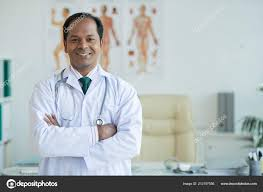Indian_Male: (61, 13, 105, 65)
